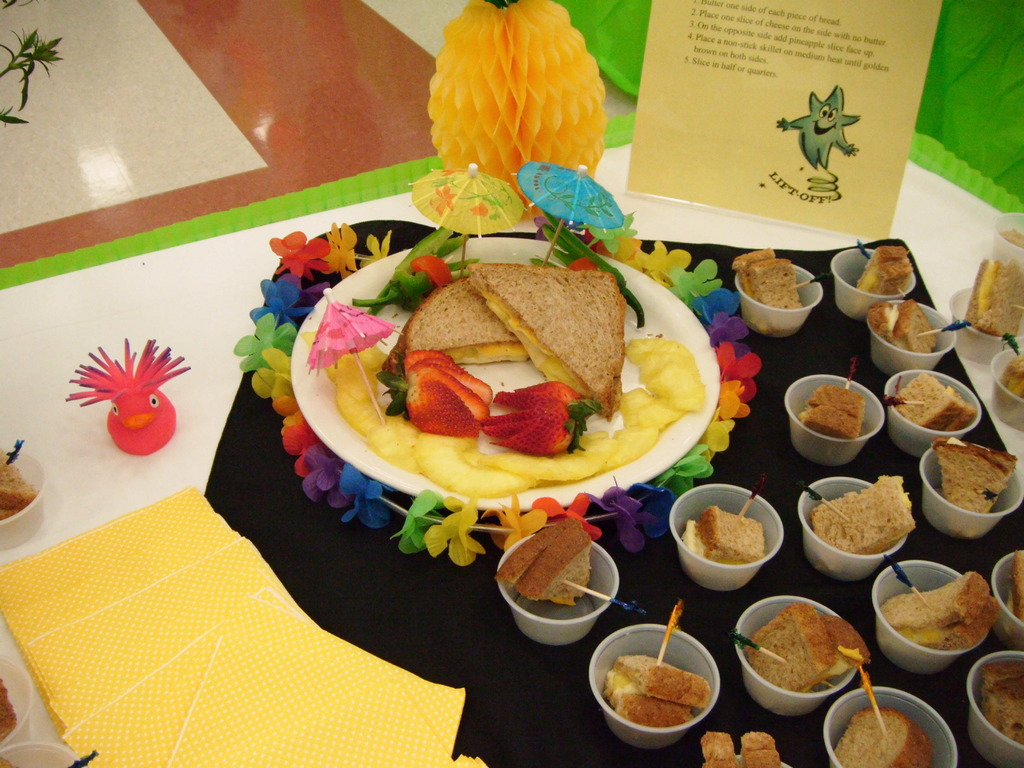sandwich: (388, 229, 1023, 767), (0, 449, 29, 514), (0, 669, 16, 736)
